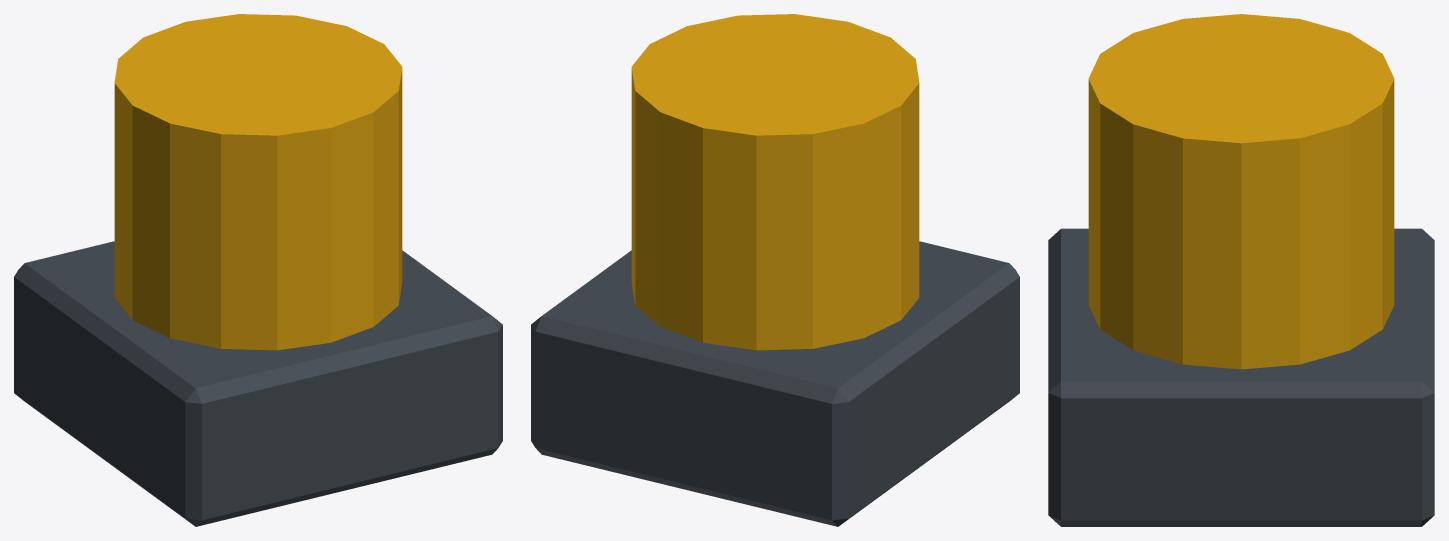
The model's file is AmberWarningBeacon.fbx.
The picture shows the model from 3 angles, left to right: view 1: azimuth 30°, elevation 25°; view 2: azimuth 150°, elevation 25°; view 3: azimuth 270°, elevation 25°; orthographic projection. The views are drawn at different scales.
Visible parts, largest first — view 1: AmberWarningBeacon; view 2: AmberWarningBeacon; view 3: AmberWarningBeacon.
Boxes of the visible parts, x1,y1,x2,y2 form: AmberWarningBeacon: (14, 14, 502, 526); AmberWarningBeacon: (531, 14, 1019, 526); AmberWarningBeacon: (1048, 14, 1434, 526).
Size of the model in its own units: 24 by 25.5 by 24.
Materials: 1 (1 with a texture image).
